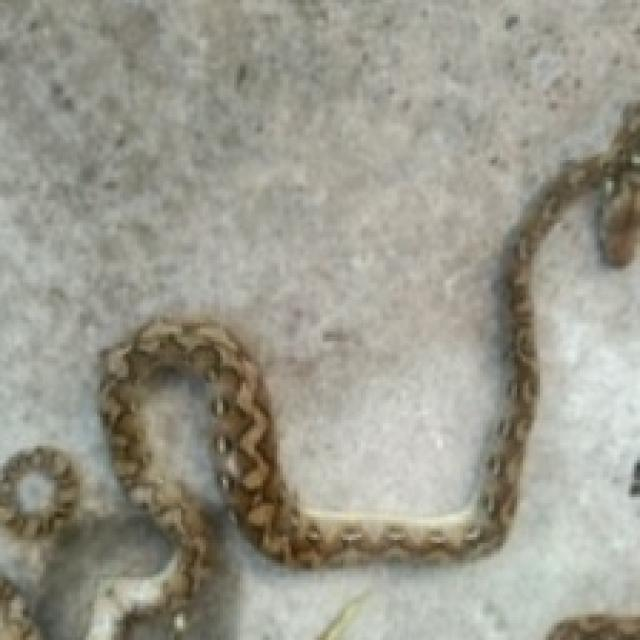reticulated python: (86, 103, 637, 637)
